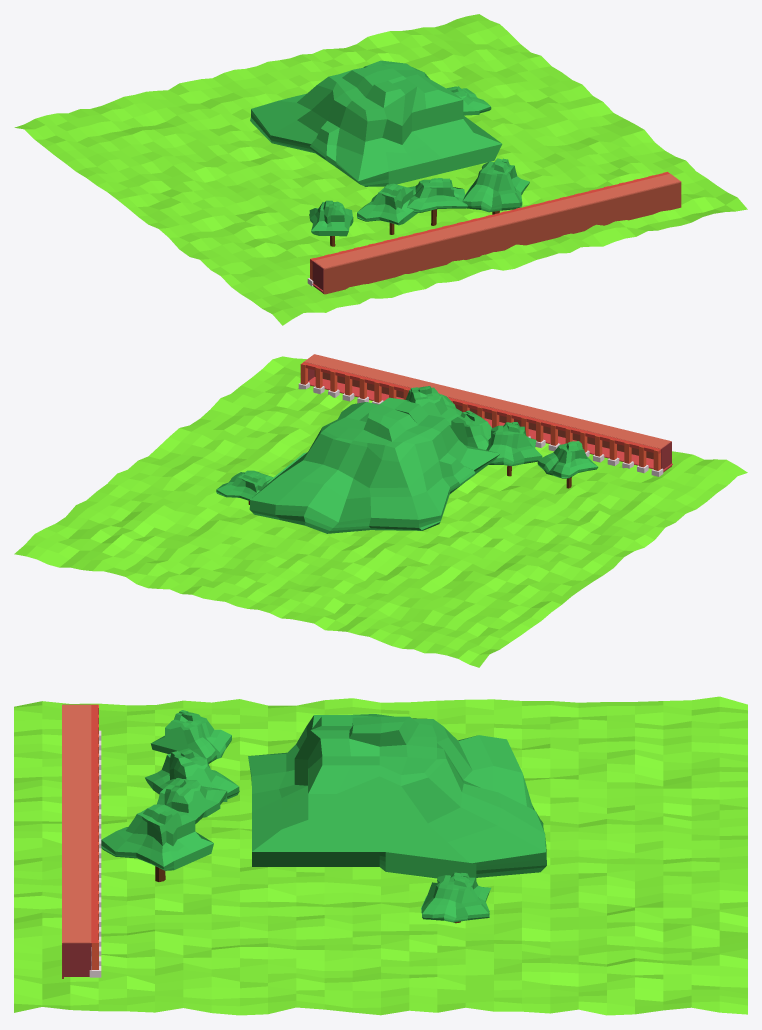
The model's file is end.fbx.
3 renders of one model, top to bottom at view 1: azimuth 30°, elevation 25°; view 2: azimuth 150°, elevation 25°; view 3: azimuth 270°, elevation 25°, orthographic. The views are drawn at different scales.
Parts seen in each view (by area): view 1: 平面, 立方體, 平面.004, 立方體.002, 立方體.004, 立方體.001, 立方體.008, 立方體.003; view 2: 平面, 立方體, 平面.004, 立方體.004, 立方體.008, 立方體.001, 立方體.002, 立方體.003; view 3: 平面, 立方體, 平面.004, 立方體.002, 立方體.003, 立方體.008, 立方體.004, 立方體.001.
Boxes of the visible parts, box(x1,y1,x2,y2) form: 平面: box(14, 14, 747, 325); 立方體: box(250, 60, 502, 186); 平面.004: box(307, 171, 681, 294); 立方體.002: box(462, 158, 529, 212); 立方體.004: box(357, 183, 417, 225); 立方體.001: box(407, 178, 467, 212); 立方體.008: box(309, 200, 353, 236); 立方體.003: box(446, 86, 491, 115); 平面: box(14, 356, 747, 667); 立方體: box(249, 397, 500, 533); 平面.004: box(298, 354, 672, 476); 立方體.004: box(486, 422, 542, 466); 立方體.008: box(537, 441, 598, 478); 立方體.001: box(450, 410, 491, 449); 立方體.002: box(405, 386, 461, 425); 立方體.003: box(216, 470, 273, 500); 平面: box(14, 696, 747, 1015); 立方體: box(248, 714, 546, 880); 平面.004: box(62, 704, 101, 978); 立方體.002: box(101, 804, 213, 870); 立方體.003: box(421, 872, 491, 922); 立方體.008: box(150, 710, 231, 763); 立方體.004: box(145, 748, 239, 801); 立方體.001: box(156, 778, 227, 823).
Bounding box in the file's own units: 20250 × 4205 × 20250.
